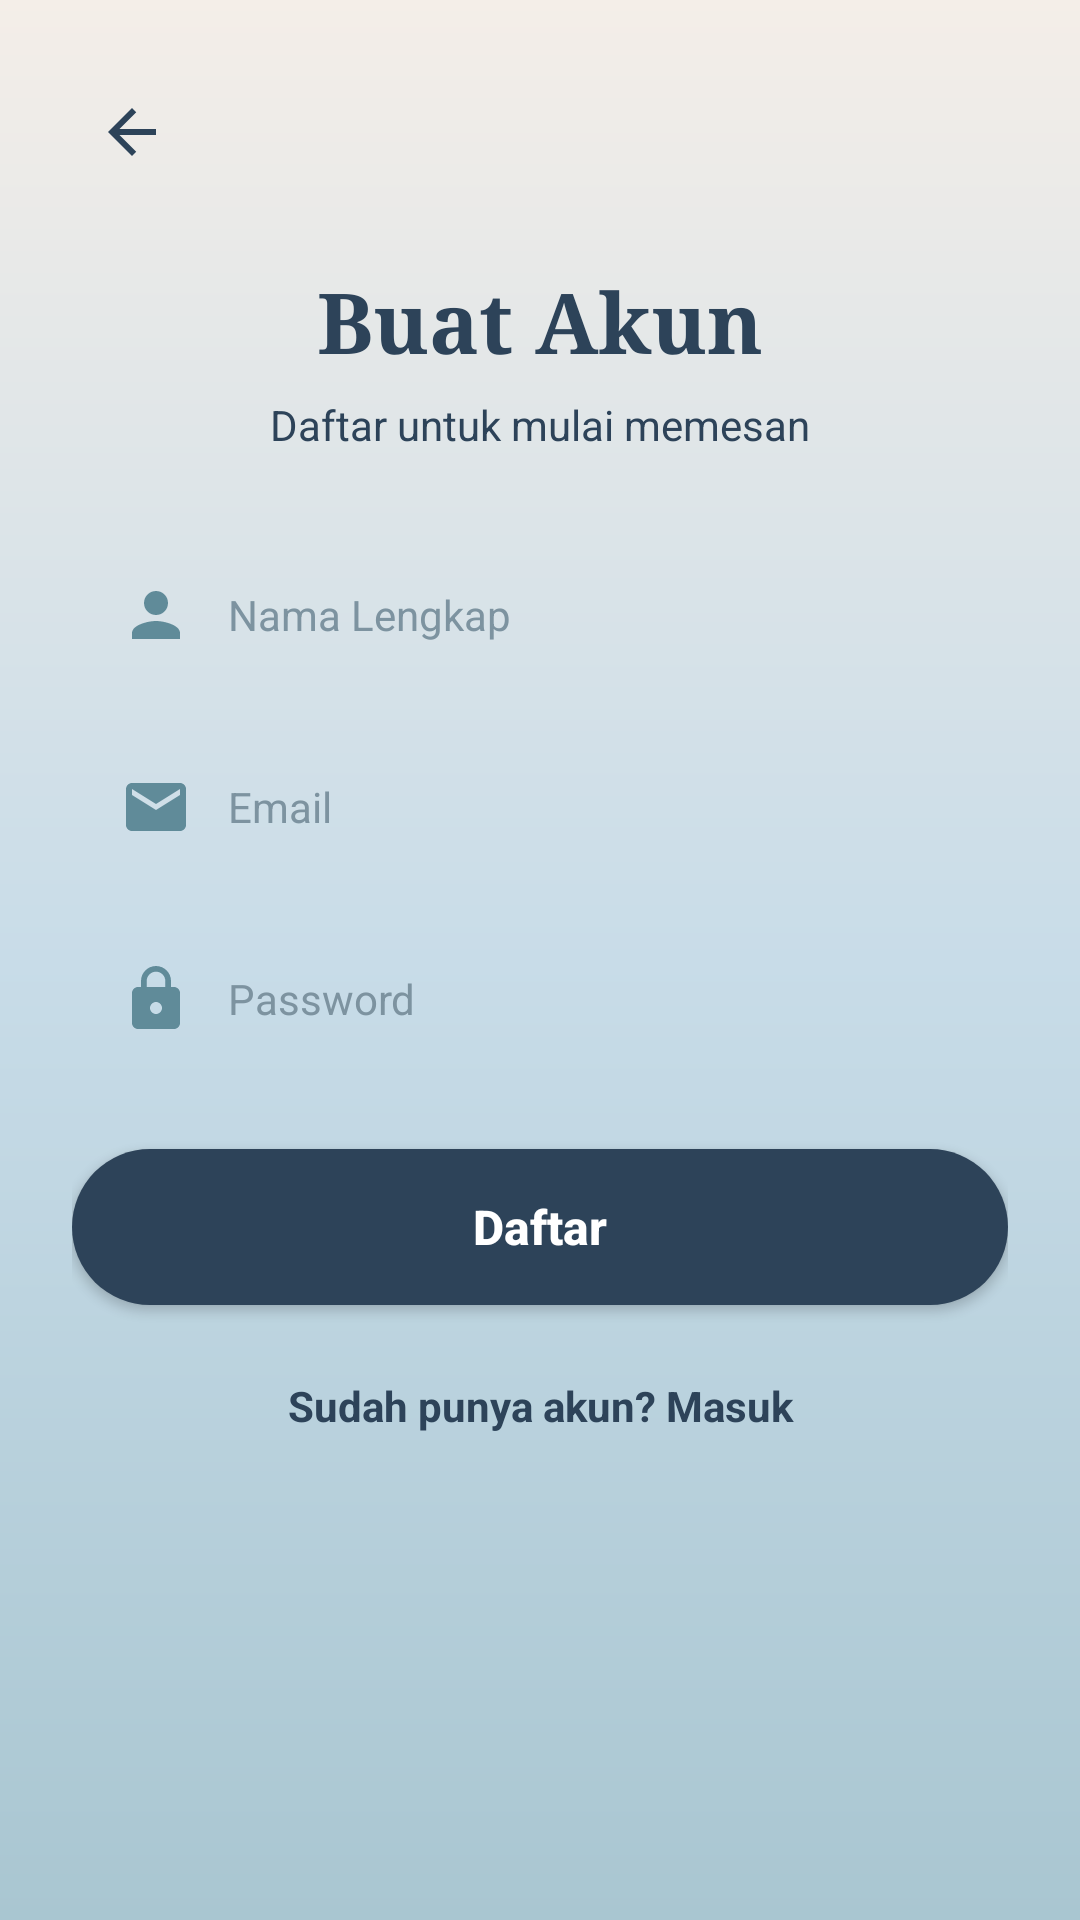

Screen size 1080x1920. Icon name, then its box in pixels as box(x1, y1, x2, y2):
Kembali: box(108, 108, 156, 156)
